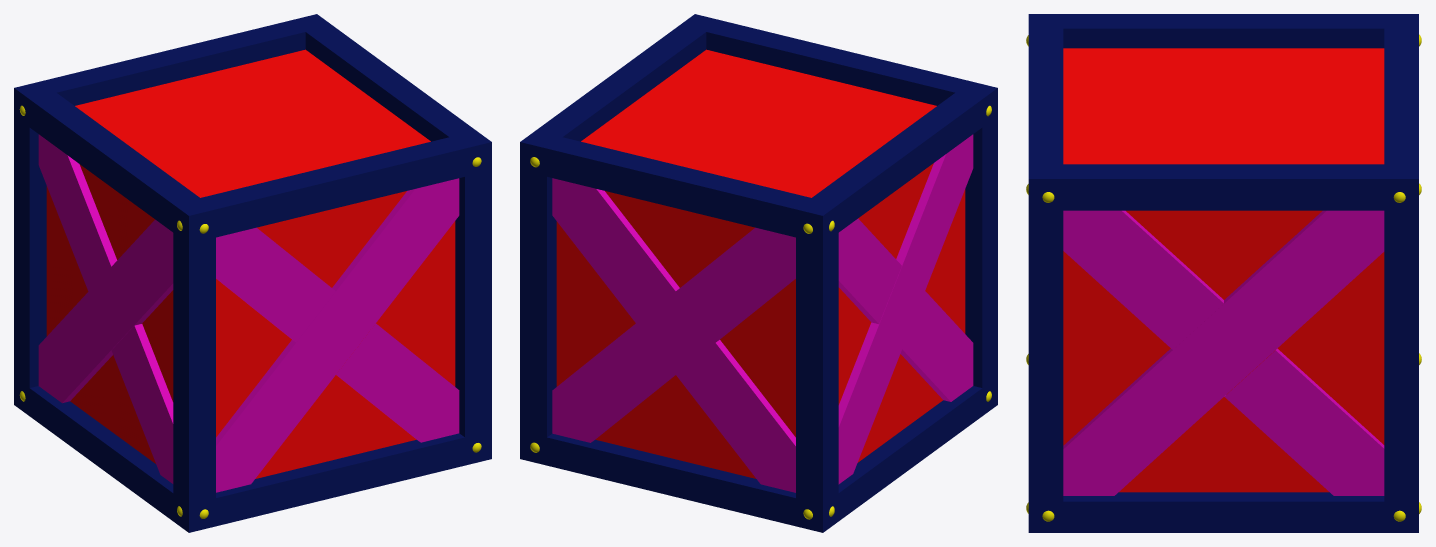
The model's file is BoxCrateID.fbx.
3 views of the same model, side by side, from view 1: azimuth 30°, elevation 25°; view 2: azimuth 150°, elevation 25°; view 3: azimuth 270°, elevation 25° (orthographic). The views are drawn at different scales.
Parts seen in each view (by area): view 1: Box025, Box035, Box034, Box039, Box038; view 2: Box025, Box036, Box037, Box039, Box038; view 3: Box025, Box033, Box032.
Part boxes in pixels (left/top/right/bottom): Box025: left=14, top=14, right=491, bottom=532; Box035: left=216, top=178, right=459, bottom=492; Box034: left=216, top=227, right=459, bottom=442; Box039: left=38, top=219, right=173, bottom=403; Box038: left=38, top=134, right=173, bottom=483; Box025: left=520, top=14, right=997, bottom=532; Box036: left=552, top=227, right=795, bottom=442; Box037: left=552, top=178, right=795, bottom=492; Box039: left=838, top=134, right=973, bottom=484; Box038: left=838, top=218, right=973, bottom=401; Box025: left=1028, top=14, right=1418, bottom=532; Box033: left=1063, top=210, right=1384, bottom=495; Box032: left=1063, top=210, right=1384, bottom=495.
Size of the model in its own units: 35.9 by 35.9 by 35.43.
